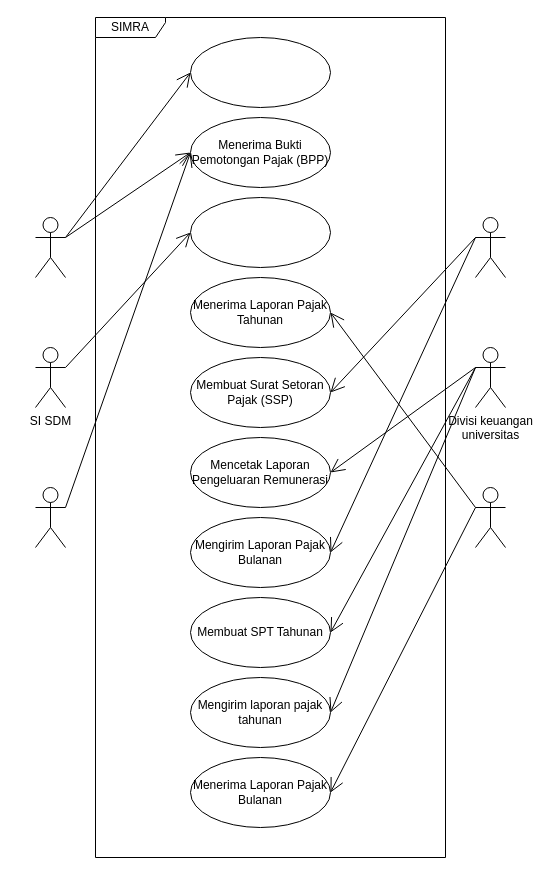
The diagram is 550 pixels wide and 875 high, and some of its shapes have lost their labels. The centre of each missing label's shape, as x and y in pixels:
"Divisi keuangan fakultas" goes at (490,247).
"Kantor pajak" goes at (490,517).
"Menerima Data Pegawai Aktif" goes at (260,232).
"Menerima slip remunerasi" goes at (260,72).
"Pegawai" goes at (50,247).
"Tata Usasa Departemen" goes at (50,517).
